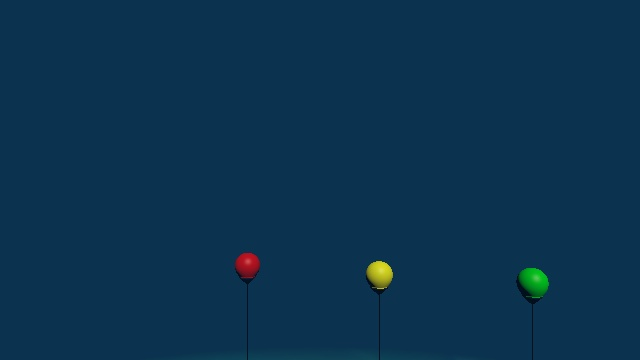buoy_green: (514, 261, 551, 308)
buoy_red: (234, 252, 260, 283)
